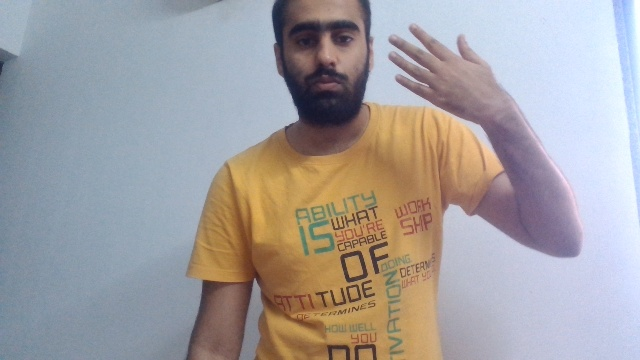paper: (387, 22, 494, 125)
